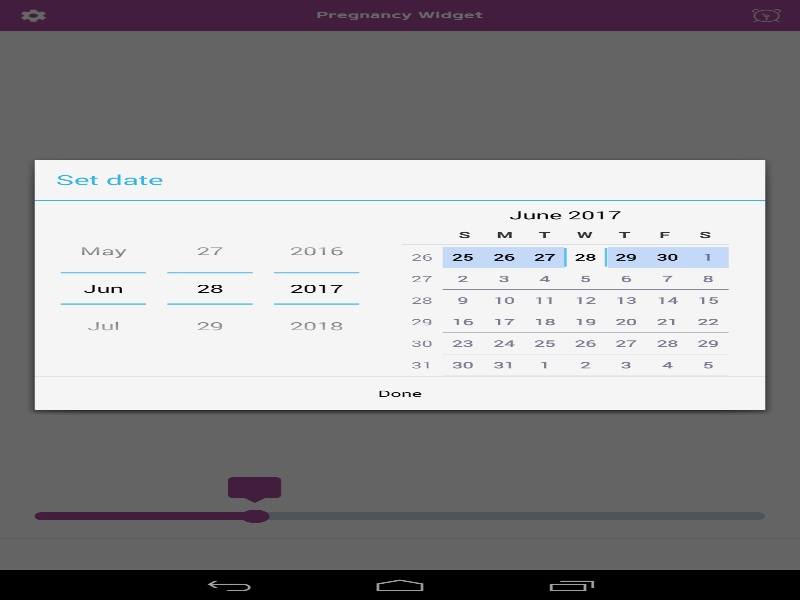Button: (34, 376, 765, 410), (60, 232, 146, 273), (60, 303, 146, 344), (167, 232, 252, 273), (167, 303, 252, 344), (274, 232, 359, 273), (274, 303, 359, 344)
Input: (60, 273, 146, 303), (167, 273, 252, 303), (274, 273, 359, 303)
